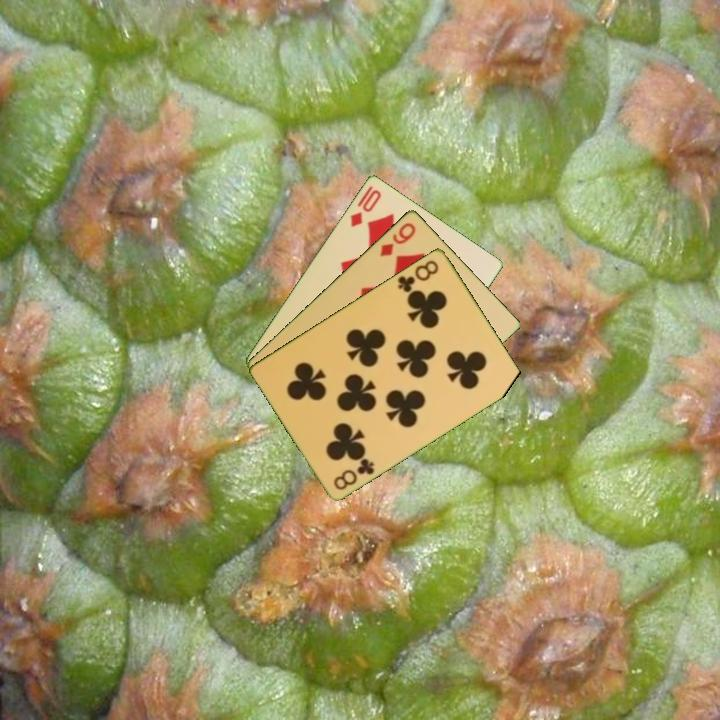10d: (346, 182, 384, 230)
8c: (394, 256, 442, 295), (330, 454, 377, 493)
9d: (376, 218, 419, 259)
